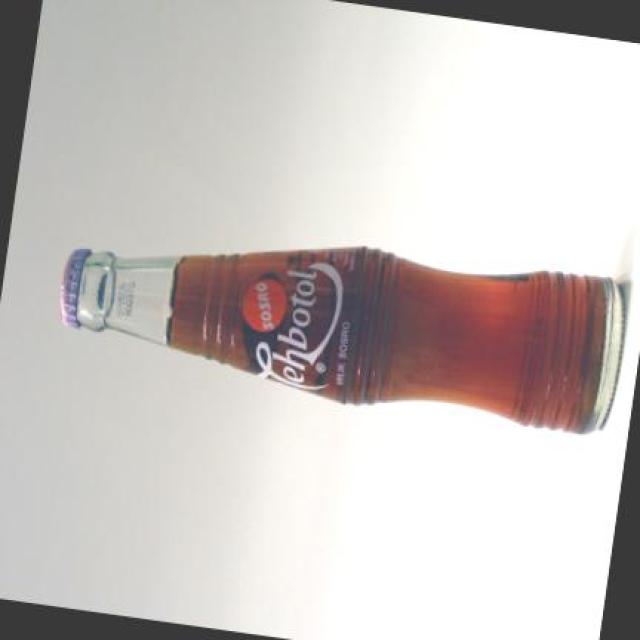high: (61, 247, 624, 431)
